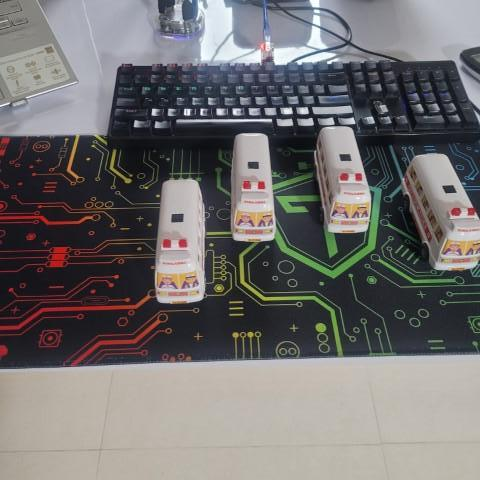ambulance: (401, 151, 480, 273), (152, 175, 210, 305), (308, 121, 372, 237), (229, 128, 282, 245)
